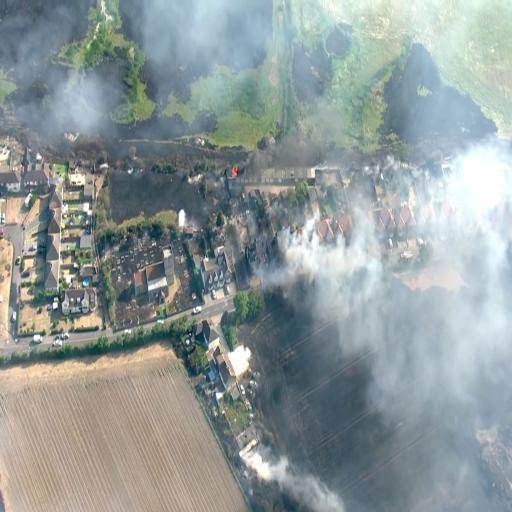smoke: (287, 230, 377, 285)
